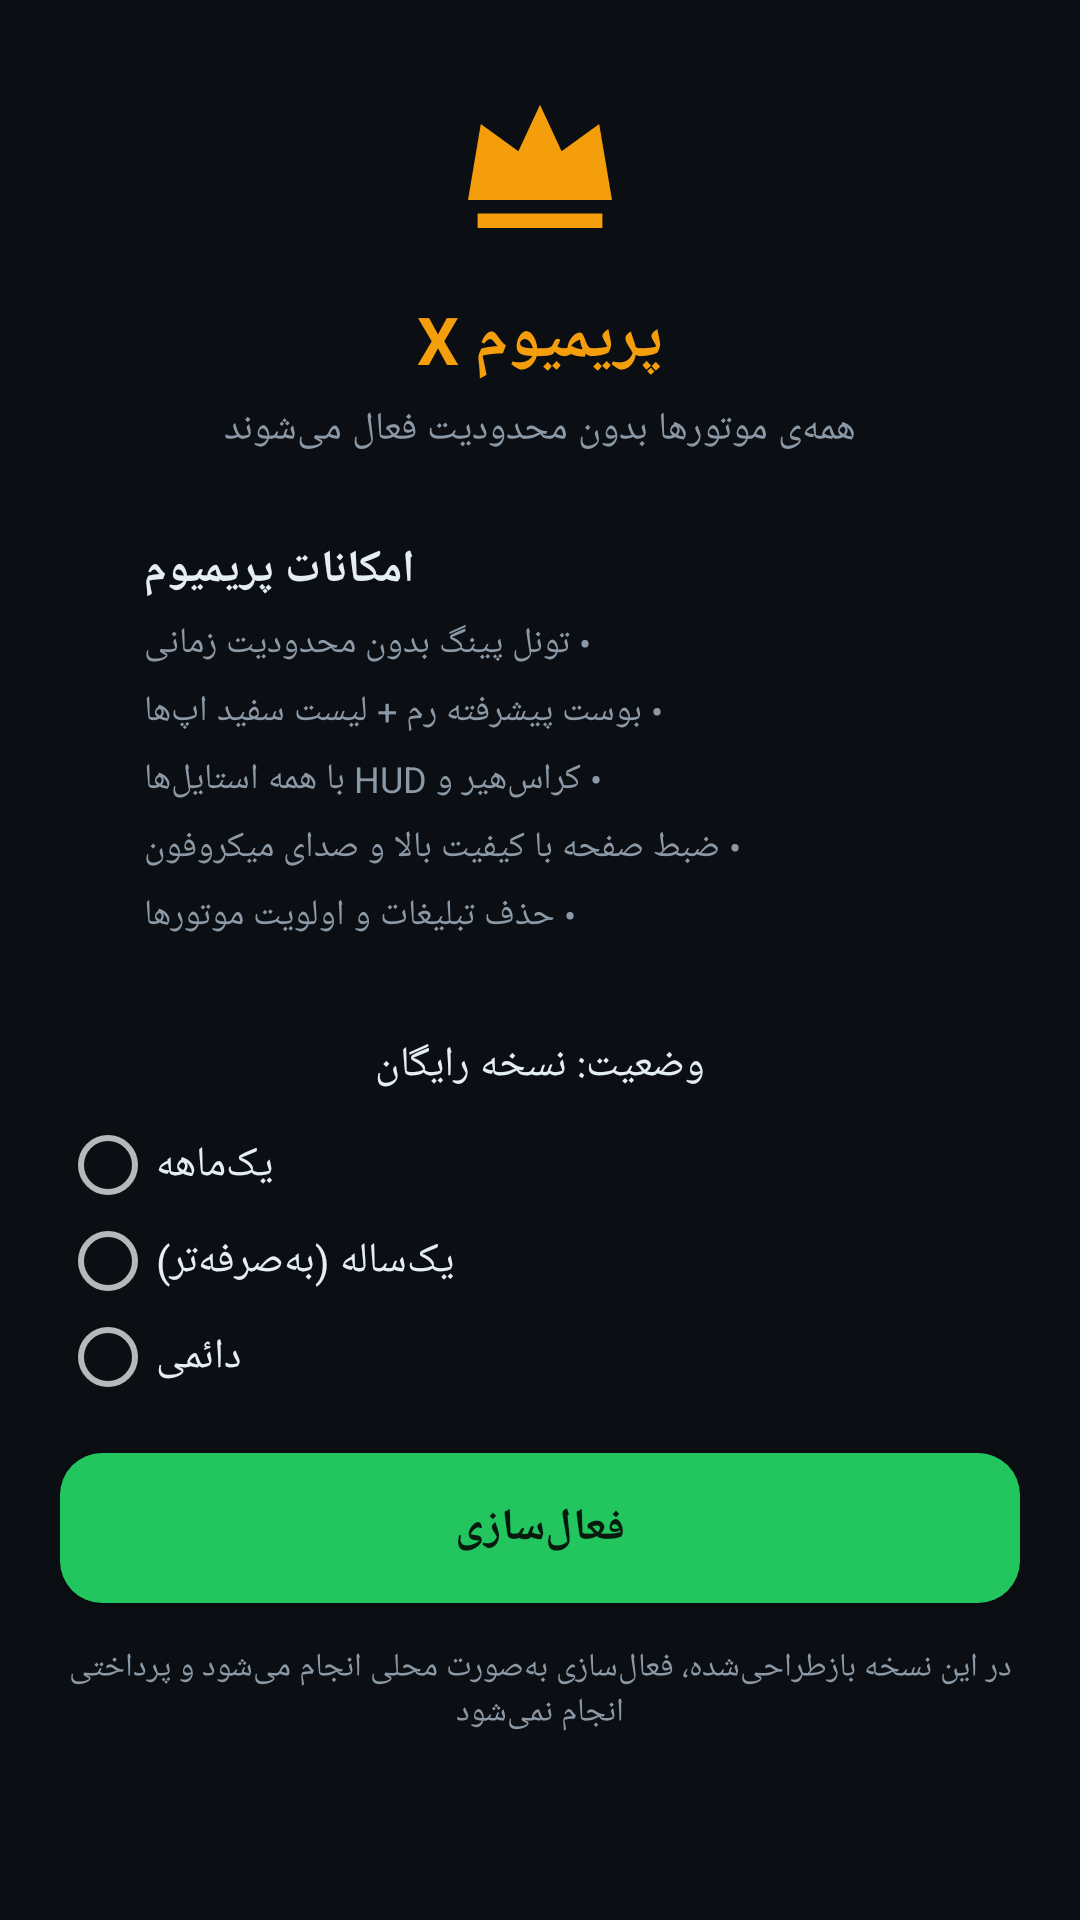

Icon click points for this 1080×1920 phone screenshot, format [x,y]:
crown: [540,166]
